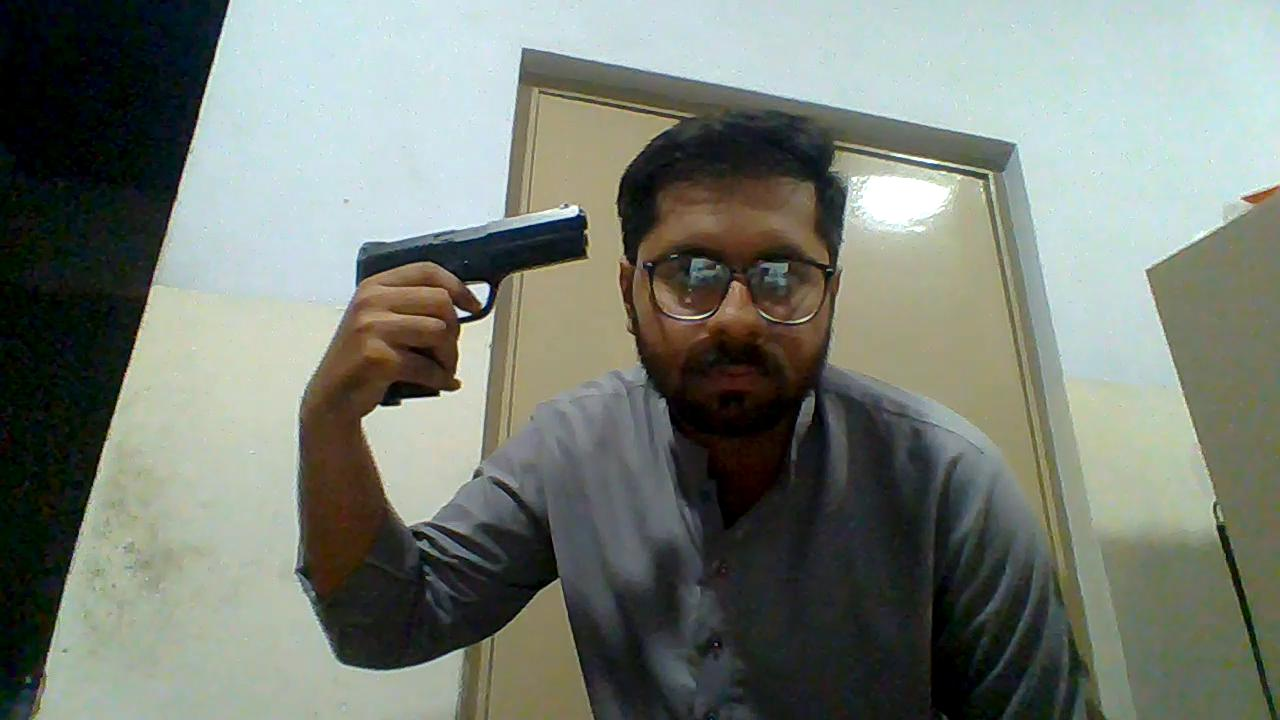criminal: (294, 106, 1093, 720)
weapon: (353, 202, 592, 410)
